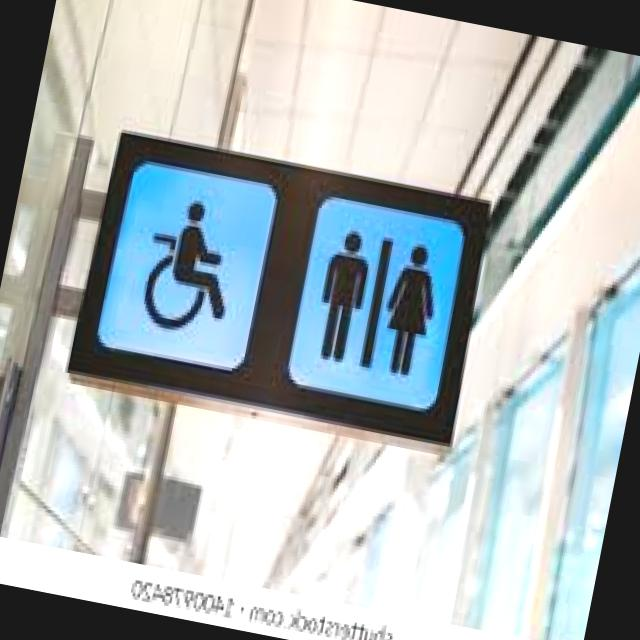toilet_icon: (117, 162, 466, 406)
